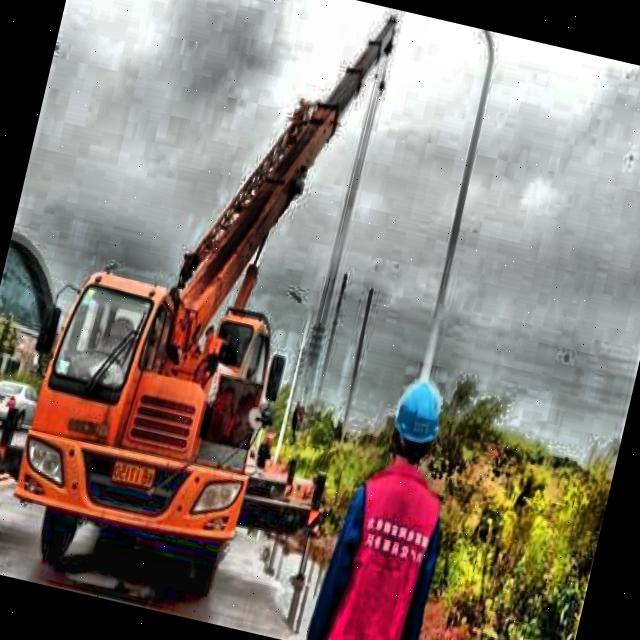helmet: (381, 366, 454, 477)
